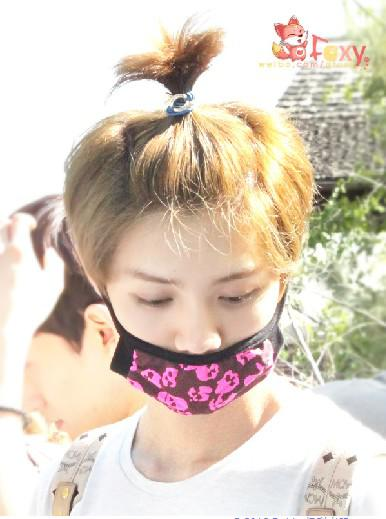WRONG: (109, 259, 269, 419)
